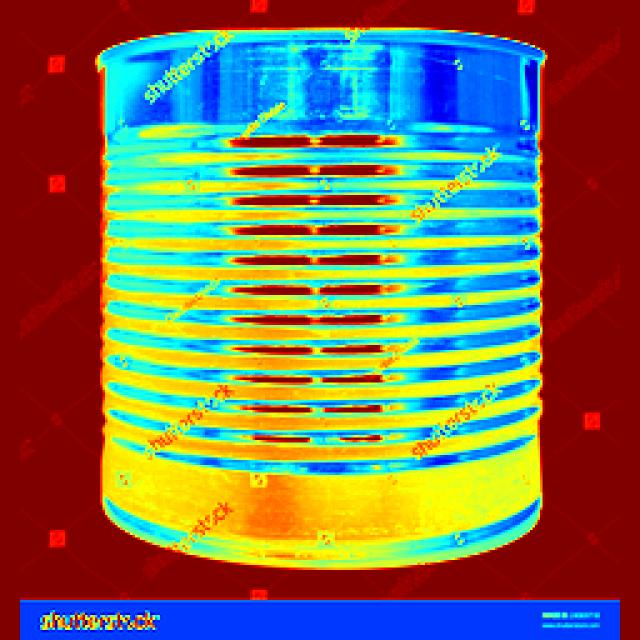Aluminium Food Cans: (91, 28, 545, 570)
